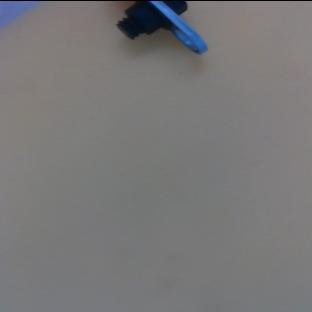part_1_good: (116, 0, 206, 53)
